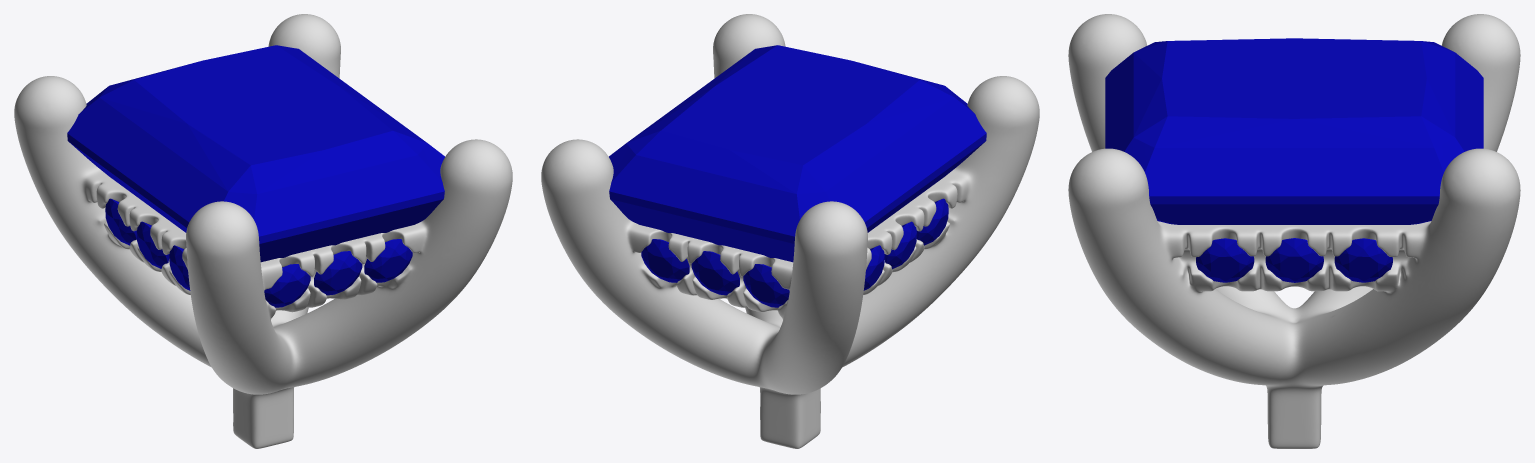
File: Radiant.glb
The picture shows the model from 3 angles, left to right: view 1: azimuth 30°, elevation 25°; view 2: azimuth 150°, elevation 25°; view 3: azimuth 270°, elevation 25°; orthographic projection. The views are drawn at different scales.
Visible parts, largest first — view 1: /GSMOD388300-HIDDEN HALO_RADIANT_IJ.3dm, Diamond_Radiant, Diamond_Round (×6); view 2: /GSMOD388300-HIDDEN HALO_RADIANT_IJ.3dm, Diamond_Radiant, Diamond_Round (×6); view 3: /GSMOD388300-HIDDEN HALO_RADIANT_IJ.3dm, Diamond_Radiant, Diamond_Round (×3).
Part boxes in pixels (x1,y1,x2,y2): /GSMOD388300-HIDDEN HALO_RADIANT_IJ.3dm: [14, 14, 512, 448]; Diamond_Radiant: [67, 45, 444, 262]; Diamond_Round (×6): [105, 198, 412, 307]; /GSMOD388300-HIDDEN HALO_RADIANT_IJ.3dm: [541, 14, 1039, 448]; Diamond_Radiant: [609, 45, 986, 262]; Diamond_Round (×6): [641, 198, 948, 307]; /GSMOD388300-HIDDEN HALO_RADIANT_IJ.3dm: [1068, 14, 1520, 448]; Diamond_Radiant: [1105, 38, 1483, 224]; Diamond_Round (×3): [1196, 238, 1392, 282].
Bounding box in the file's own units: 7.78 × 7.81 × 8.85.
